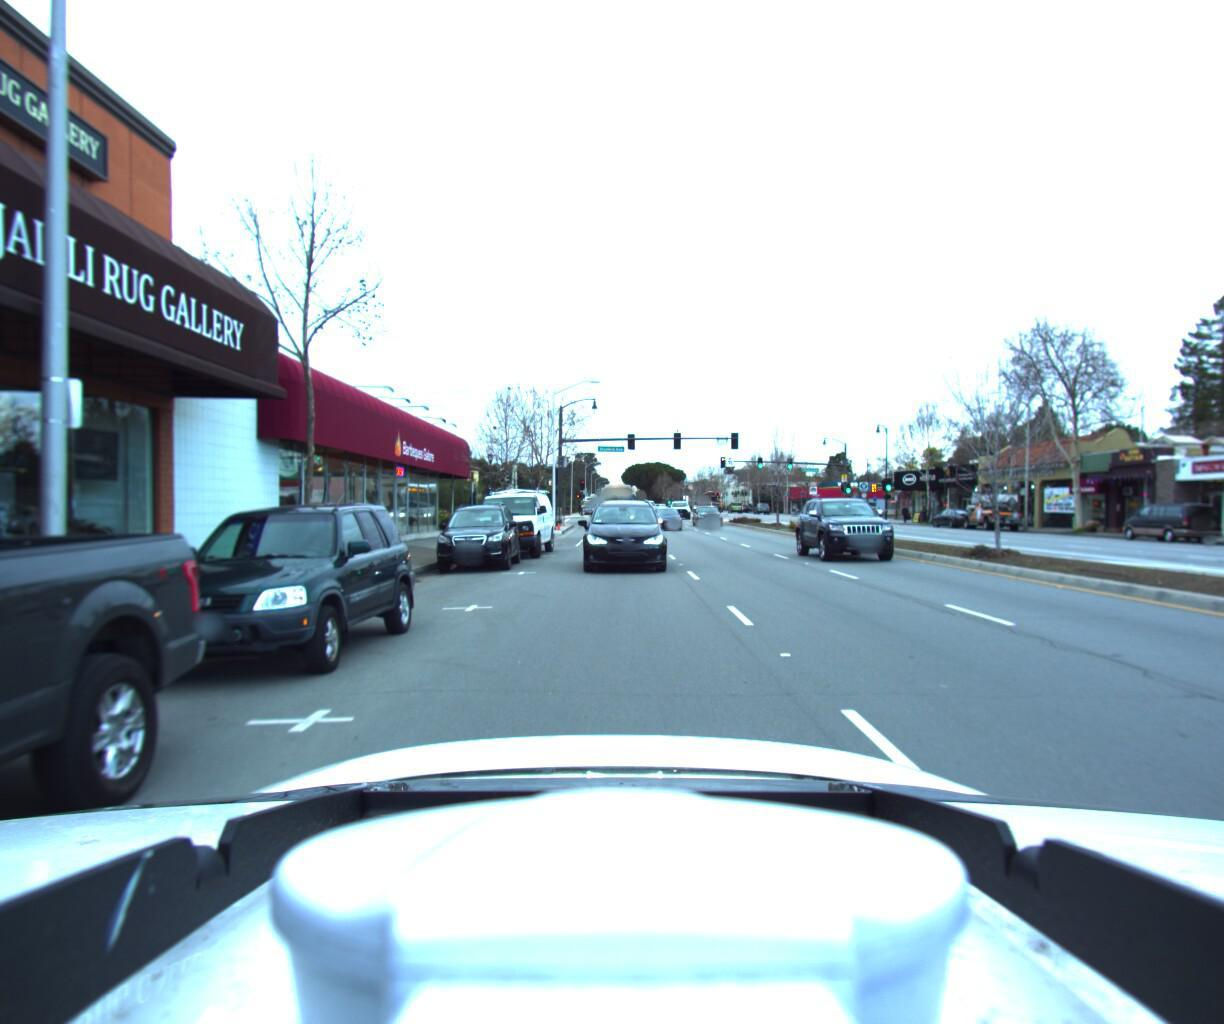bus: (595, 476, 636, 519)
car: (87, 502, 426, 702), (797, 492, 912, 566), (464, 488, 553, 565), (428, 503, 521, 578), (582, 496, 665, 577), (1113, 501, 1224, 544), (957, 503, 1026, 532), (924, 507, 979, 529), (692, 501, 727, 528), (653, 507, 686, 532), (669, 495, 695, 519), (598, 485, 619, 504)
